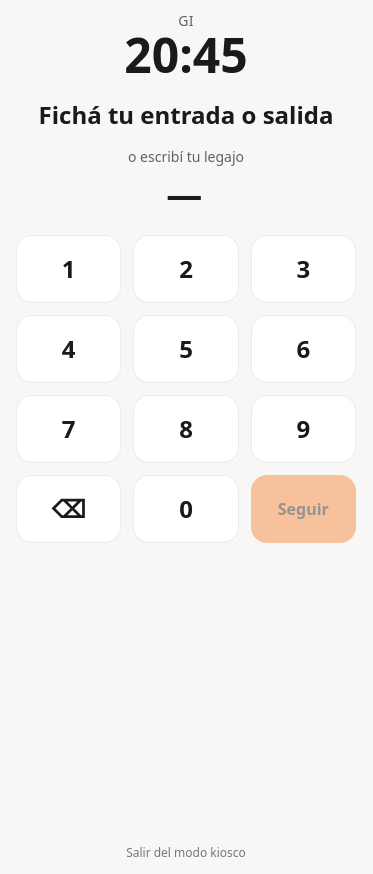
it: Kiosco — 'No soy yo' vuelve a pedir el legajo
The width and height of the screenshot is (373, 874).
What coordinates should you click on to do the following:
click the button "7"
I would click on:
 (69, 429)
Its box is [16,395,121,463].
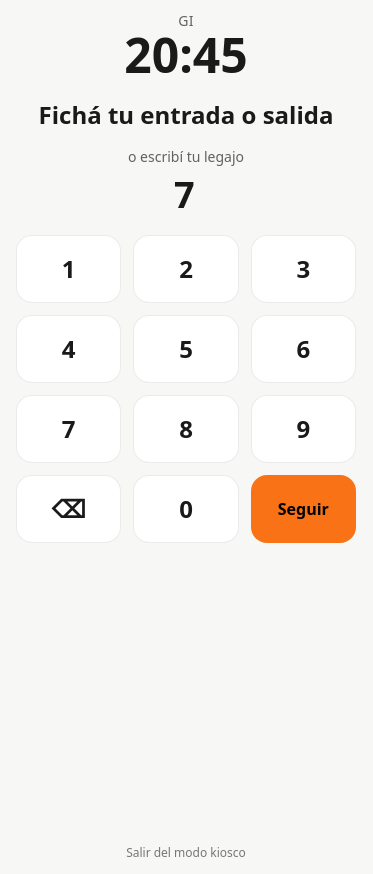
What coordinates should you click on to do the following:
click the button "Seguir"
I would click on:
 (303, 509)
Its box is [251,475,356,543].
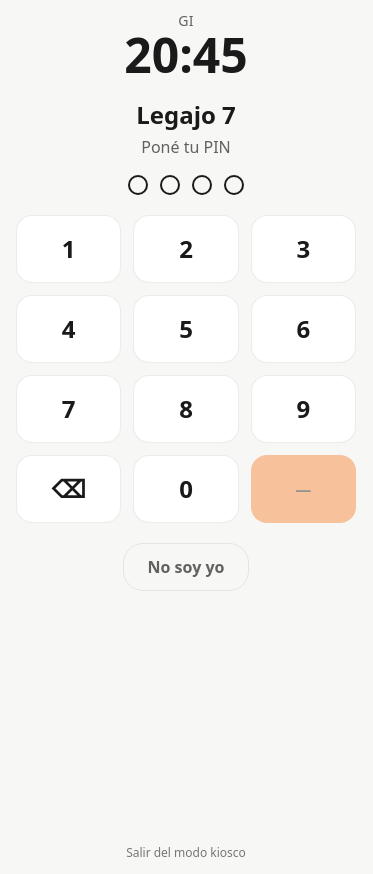
expect the heading "Legajo 7" is shown: met, box [136,99,236,131]
What coordinates should you click on to do the following:
click the button "No soy yo"
I would click on:
 (186, 567)
Its box is [122,543,249,591].
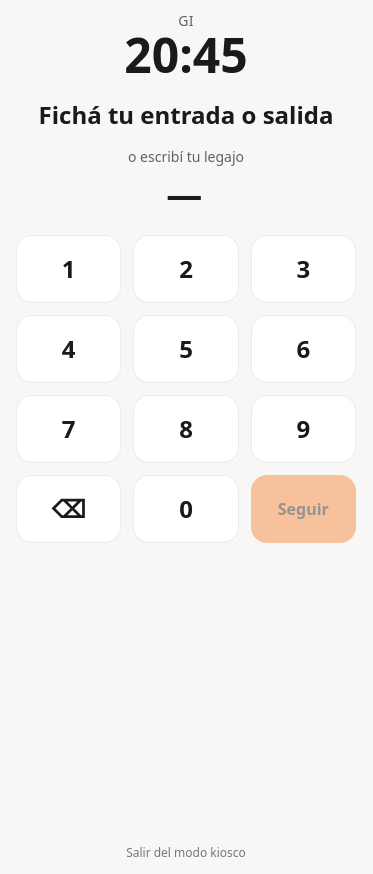
expect the heading "Fichá tu entrada o salida" is shown: met, box [39,99,333,131]
